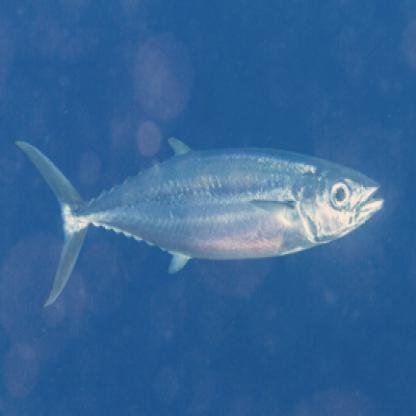Scombridae -Tunas-: (12, 135, 390, 314)
